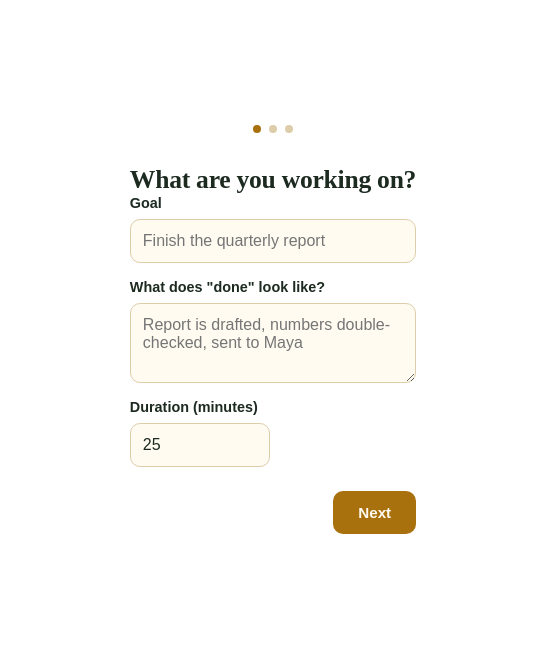
Test: OnboardingFlow › advances to the profile step once the goal form is valid
The width and height of the screenshot is (547, 659).
Type "Write the report" into the field labelled "Goal" at coordinates (273, 240), box [130,218,416,262]
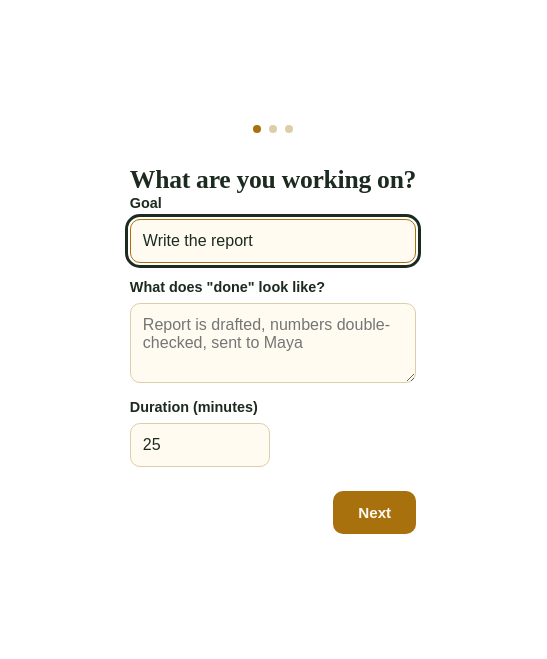
Type "Report sent" into the text box labelled "What does \"done\" look like?" at coordinates (273, 342), box [130,302,416,382]
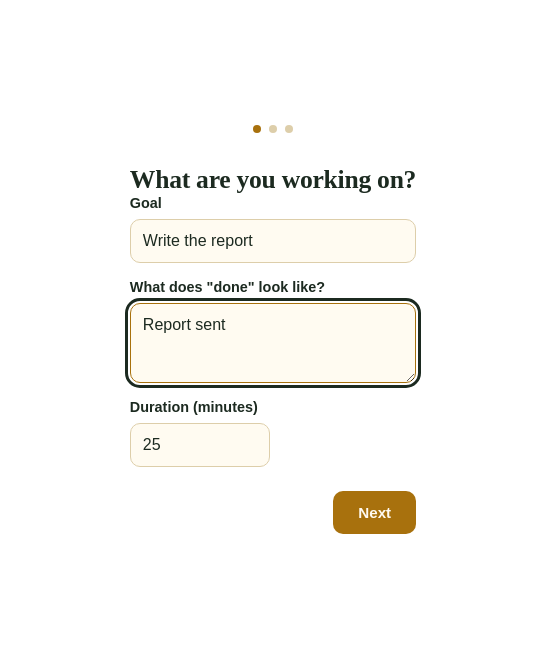
Click the button "Next" at coordinates (375, 512), box [333,490,416,534]
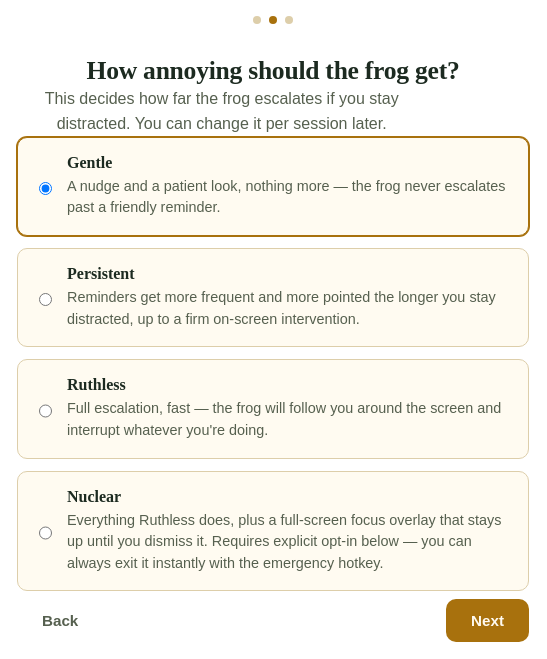
Now the heading "How annoying should the frog get?" is shown, box [86,56,459,85]
